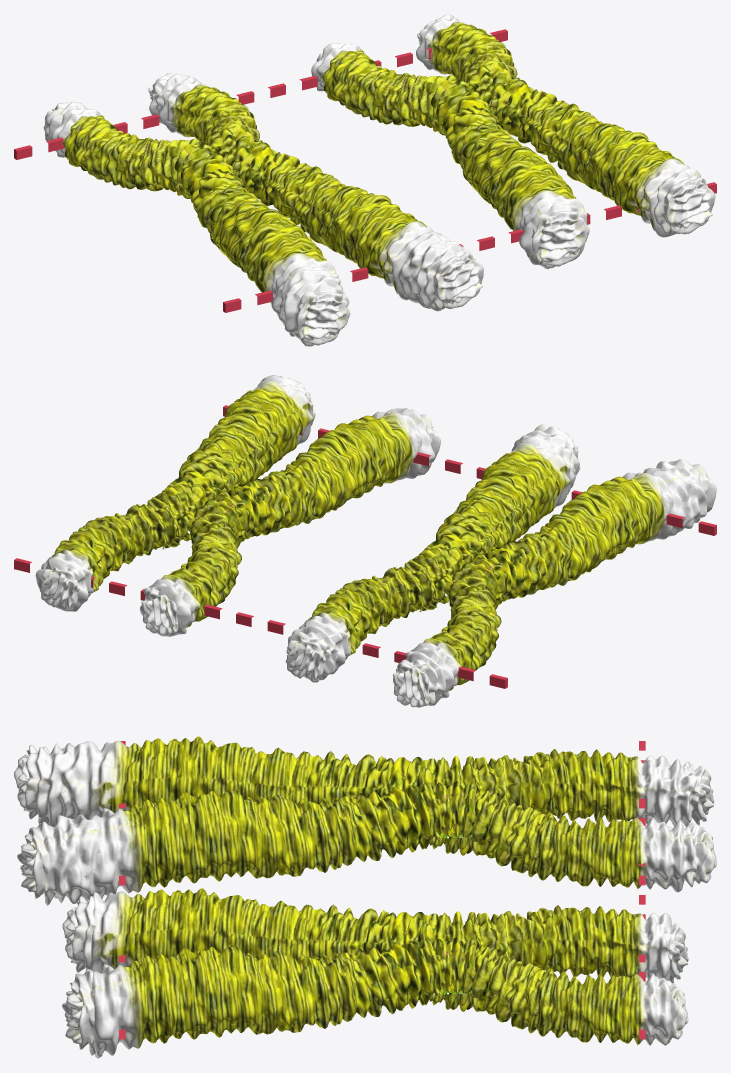
File: chromosome.glb
3 views of the same model, one above another, from view 1: azimuth 30°, elevation 25°; view 2: azimuth 150°, elevation 25°; view 3: azimuth 270°, elevation 25° (orthographic). The views are drawn at different scales.
Parts seen in each view (by area): view 1: Object_9, Object_11, Cube.006_2, Cube.003_3; view 2: Object_9, Object_11, Cube.006_2, Cube.003_3; view 3: Object_9, Object_11, Cube.006_2.
Boxes of the visible parts, x1,y1,x2,y2 form: Object_9: [43, 73, 483, 346]; Object_11: [311, 14, 715, 269]; Cube.006_2: [14, 29, 507, 159]; Cube.003_3: [223, 182, 716, 312]; Object_9: [285, 424, 716, 707]; Object_11: [35, 375, 440, 636]; Cube.006_2: [14, 558, 507, 688]; Cube.003_3: [223, 405, 716, 535]; Object_9: [14, 736, 716, 905]; Object_11: [62, 888, 688, 1058]; Cube.006_2: [639, 741, 645, 1039].
Bounding box in the file's own units: 6.48 × 0.987 × 6.45.
Materials: 2 (1 with a texture image).
